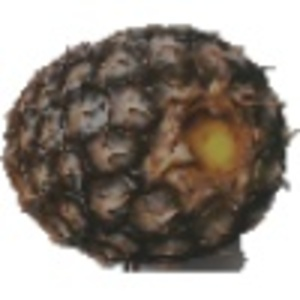abacaxi: (1, 16, 297, 286)
